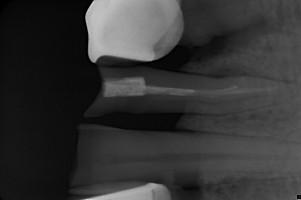Endo-Periodontal Lesion: (186, 20, 274, 64)
